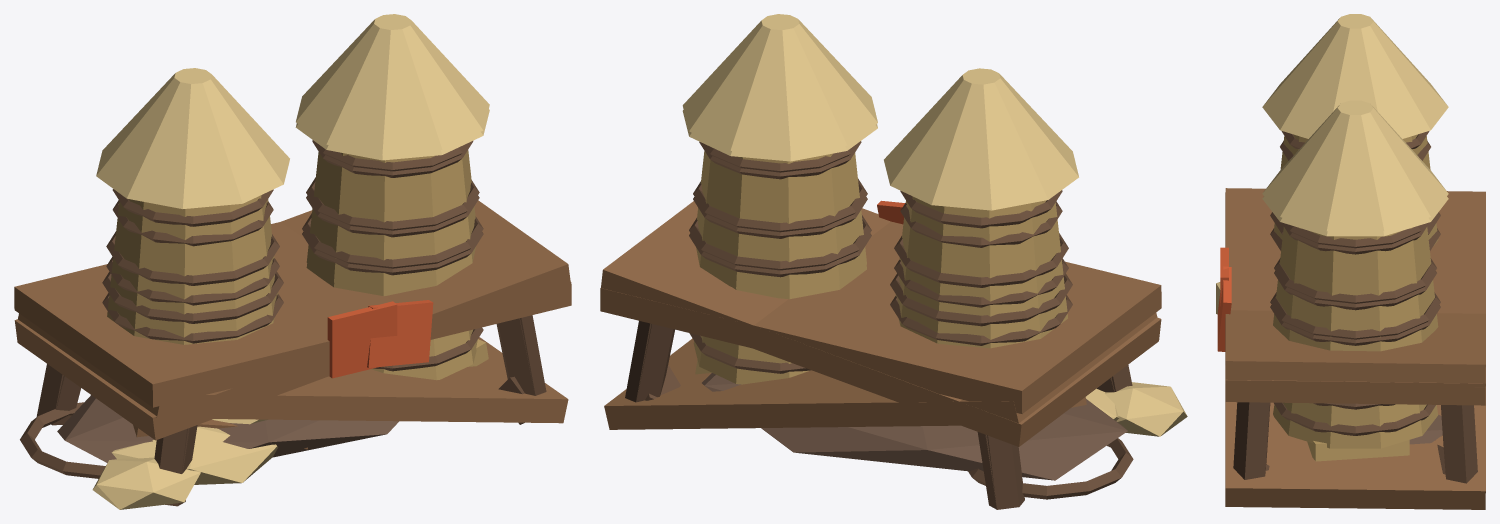
File: storage_pit_stages.glb
3 views of the same model, side by side, from view 1: azimuth 30°, elevation 25°; view 2: azimuth 150°, elevation 25°; view 3: azimuth 270°, elevation 25° (orthographic). The views are drawn at different scales.
Parts seen in each view (by area): view 1: Stage_Intact, Stage_Damaged, Stage_Critical, Stage_Rubble; view 2: Stage_Intact, Stage_Damaged, Stage_Critical, Stage_Rubble; view 3: Stage_Damaged, Stage_Intact, Stage_Critical, Stage_Rubble.
Boxes of the visible parts, <box> form: Stage_Intact: <box>14,68,571,506</box>; Stage_Damaged: <box>14,14,571,509</box>; Stage_Critical: <box>18,313,568,484</box>; Stage_Rubble: <box>57,339,488,462</box>; Stage_Intact: <box>600,68,1161,509</box>; Stage_Damaged: <box>601,14,1187,509</box>; Stage_Critical: <box>604,313,1157,506</box>; Stage_Rubble: <box>695,360,1127,480</box>; Stage_Damaged: <box>1216,100,1485,483</box>; Stage_Intact: <box>1220,14,1485,476</box>; Stage_Critical: <box>1225,386,1485,509</box>; Stage_Rubble: <box>1307,414,1442,461</box>.
Size of what is drawn, in the model's own units: 3.32 by 2.61 by 1.79.
